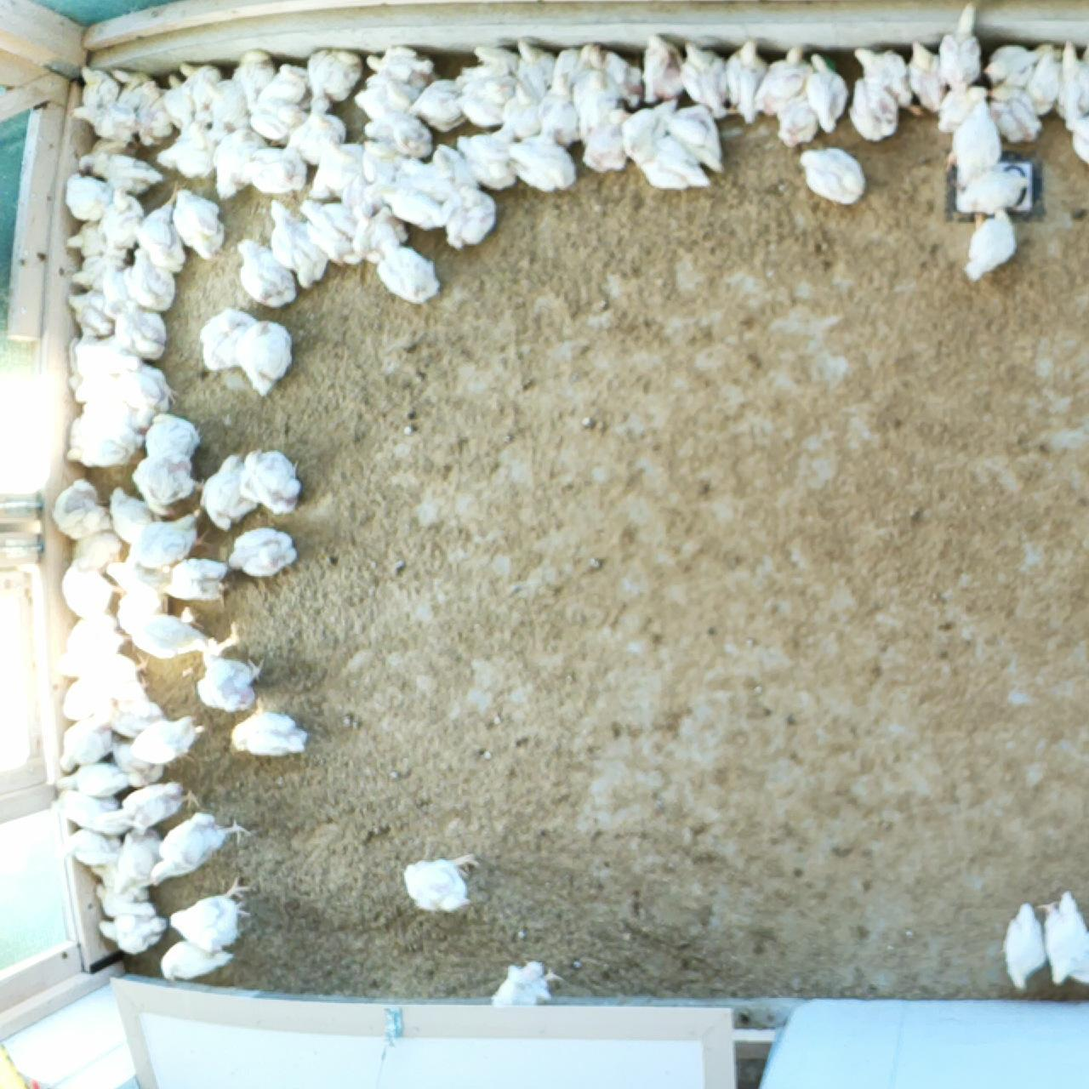chicken: (145, 812, 245, 883), (259, 197, 330, 286), (117, 507, 205, 578), (231, 693, 311, 764), (503, 124, 578, 197), (847, 75, 918, 150), (578, 71, 628, 177), (796, 140, 866, 215), (677, 41, 743, 120), (167, 892, 254, 951), (904, 34, 960, 124), (192, 649, 265, 718), (229, 322, 297, 396), (847, 43, 915, 117), (196, 447, 256, 530), (958, 205, 1021, 283), (403, 852, 472, 923), (249, 64, 313, 140), (68, 404, 144, 467), (97, 147, 174, 209), (941, 11, 1003, 88), (56, 550, 124, 620), (1039, 892, 1087, 990), (229, 233, 290, 310), (292, 192, 358, 262), (948, 88, 1005, 168), (111, 790, 204, 839), (239, 446, 305, 514), (211, 134, 280, 199), (300, 42, 365, 111), (350, 64, 426, 123), (201, 307, 260, 381), (369, 237, 436, 302), (60, 616, 126, 681), (995, 900, 1042, 989), (722, 37, 769, 126), (169, 186, 225, 260), (62, 213, 139, 266), (128, 612, 208, 663), (54, 792, 128, 847), (124, 717, 208, 765), (633, 141, 706, 196), (157, 934, 239, 981), (134, 413, 203, 468), (157, 130, 228, 183), (63, 680, 162, 718), (382, 164, 438, 231), (429, 186, 497, 241), (573, 43, 642, 97), (528, 97, 607, 144), (174, 62, 228, 130), (245, 144, 314, 197), (486, 961, 557, 1012), (118, 353, 171, 421), (84, 868, 164, 913), (73, 99, 145, 149), (305, 144, 373, 196), (105, 832, 171, 885), (55, 477, 110, 540), (991, 83, 1042, 150), (225, 527, 297, 573), (803, 52, 847, 127), (369, 111, 439, 158), (948, 168, 1021, 213), (636, 30, 685, 97), (63, 286, 127, 337), (989, 46, 1046, 103), (96, 196, 152, 254), (1056, 45, 1089, 141), (617, 100, 672, 157), (126, 258, 184, 311), (72, 68, 127, 123), (111, 305, 169, 357), (155, 211, 207, 269), (653, 105, 707, 160), (758, 41, 800, 111), (408, 80, 469, 128), (69, 346, 122, 401), (1028, 41, 1066, 117), (225, 51, 286, 98), (293, 113, 351, 162), (511, 47, 566, 98), (64, 758, 127, 801), (105, 486, 154, 539), (459, 76, 513, 123), (116, 65, 156, 127), (99, 909, 158, 951), (779, 89, 824, 144), (69, 256, 128, 296), (65, 813, 110, 864), (64, 721, 115, 766), (368, 43, 430, 80), (157, 554, 218, 591), (65, 173, 115, 218), (205, 83, 247, 128), (161, 75, 194, 128), (452, 43, 496, 81), (122, 458, 157, 497)
